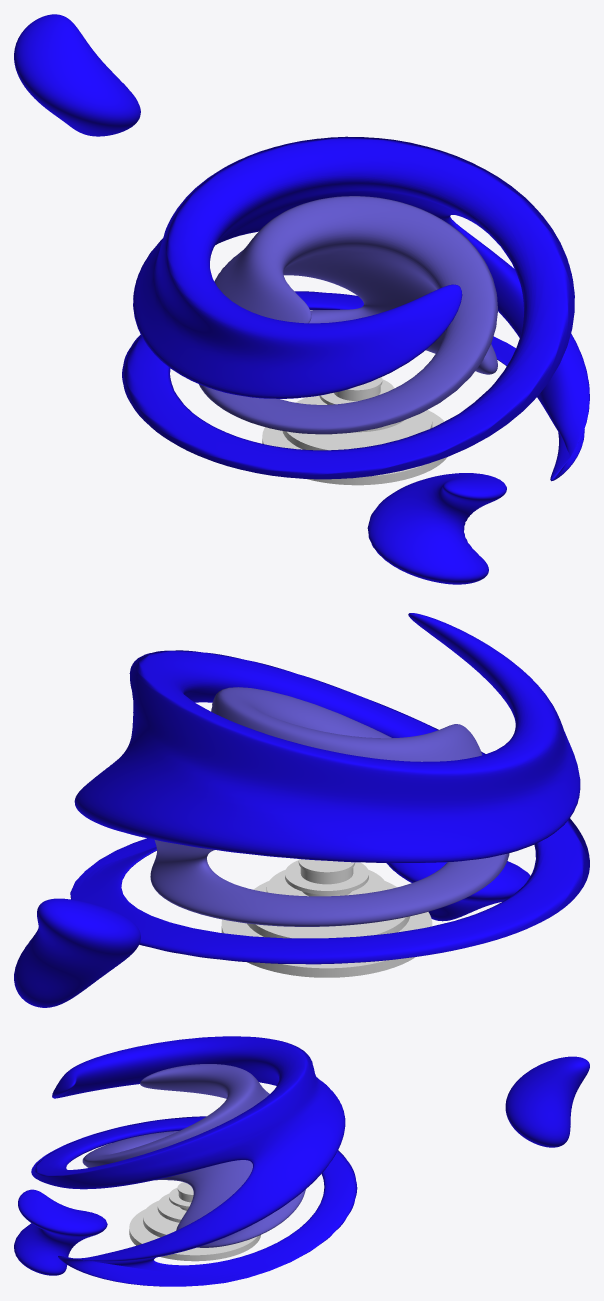
File: Abstract 1.fbx
3 views of the same model, one above another, from view 1: azimuth 30°, elevation 25°; view 2: azimuth 150°, elevation 25°; view 3: azimuth 270°, elevation 25° (orthographic). The views are drawn at different scales.
Parts seen in each view (by area): view 1: Torus_1, Torus, Sphere, Sphere_1, Cap_1_4, Extrude; view 2: Torus_1, Torus, Sphere_1, Sphere, Cap_1_4, Extrude, Cap_1_5, Cap_1_2, Cap_1_3, Cylinder, Cap_1; view 3: Torus_1, Torus, Sphere_1, Sphere, Cap_1_5, Extrude, Cap_1_4, Cap_1_3.
Boxes of the visible parts, <box> form: Torus_1: <box>122,136,589,481</box>; Torus: <box>199,196,497,434</box>; Sphere: <box>367,473,506,584</box>; Sphere_1: <box>14,14,140,136</box>; Cap_1_4: <box>287,398,432,450</box>; Extrude: <box>262,439,447,485</box>; Torus_1: <box>70,613,589,964</box>; Torus: <box>150,687,509,926</box>; Sphere_1: <box>14,898,140,1007</box>; Sphere: <box>386,861,529,921</box>; Cap_1_4: <box>253,881,405,938</box>; Extrude: <box>221,926,415,977</box>; Cap_1_5: <box>221,912,432,968</box>; Cap_1_2: <box>285,860,368,890</box>; Cap_1_3: <box>267,869,386,896</box>; Cylinder: <box>300,867,353,896</box>; Cap_1: <box>298,859,354,872</box>; Torus_1: <box>31,1036,357,1286</box>; Torus: <box>82,1064,305,1247</box>; Sphere_1: <box>505,1056,589,1147</box>; Sphere: <box>14,1189,107,1275</box>; Cap_1_5: <box>129,1209,257,1255</box>; Extrude: <box>129,1229,260,1261</box>; Cap_1_4: <box>143,1200,179,1234</box>; Cap_1_3: <box>157,1193,186,1219</box>.
Size of the model in its own units: 989 by 698 by 1746.
